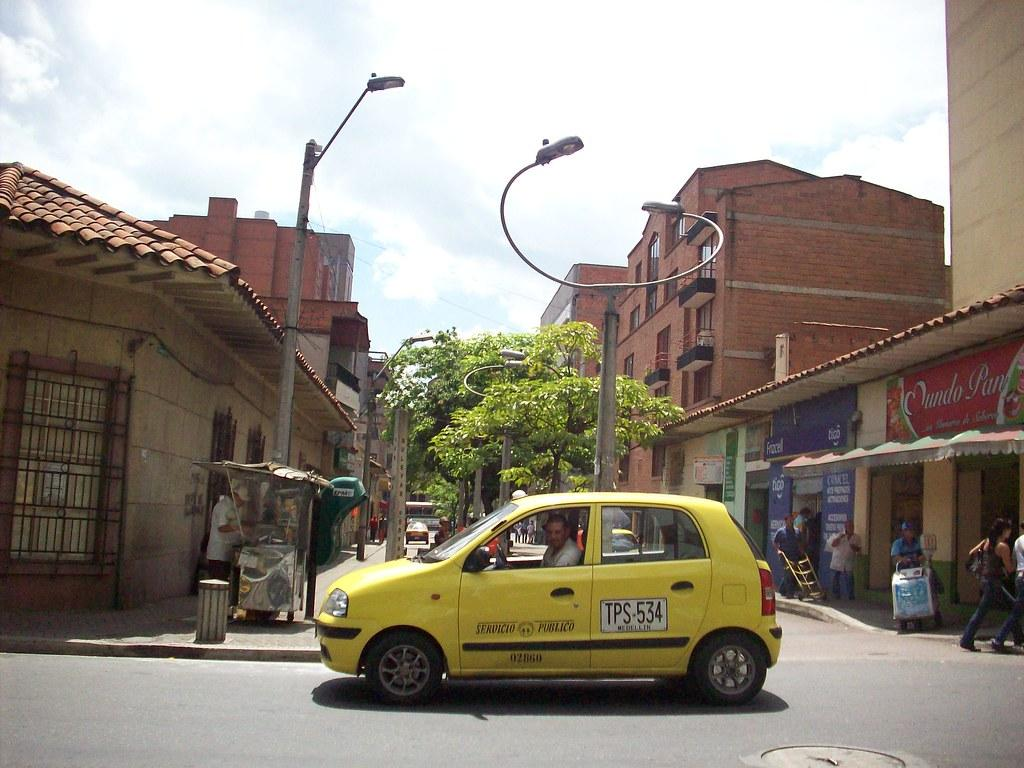taxi: (307, 498, 793, 727)
